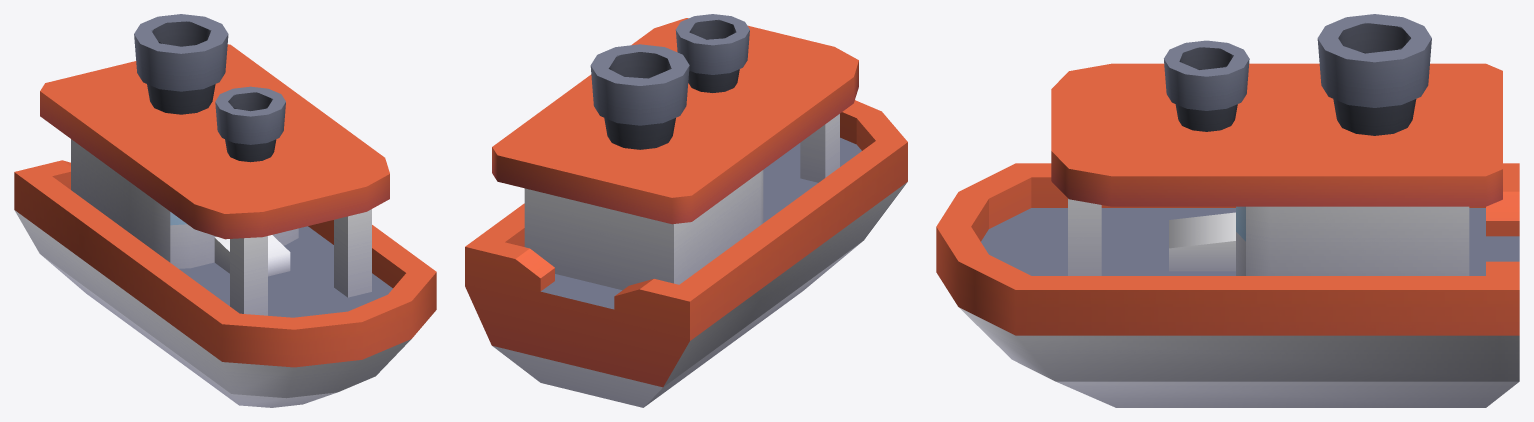
The model's file is tugboat.glb.
3 renders of one model, left to right at view 1: azimuth 30°, elevation 25°; view 2: azimuth 150°, elevation 25°; view 3: azimuth 270°, elevation 25°, orthographic. The views are drawn at different scales.
Parts seen in each view (by area): view 1: tugboat; view 2: tugboat; view 3: tugboat.
Boxes of the visible parts, <box> form: tugboat: <box>14,14,436,407</box>; tugboat: <box>465,14,907,407</box>; tugboat: <box>936,14,1519,407</box>.
Size of the model in its own units: 6.17 by 7.74 by 12.
Materials: 1 (1 with a texture image).
